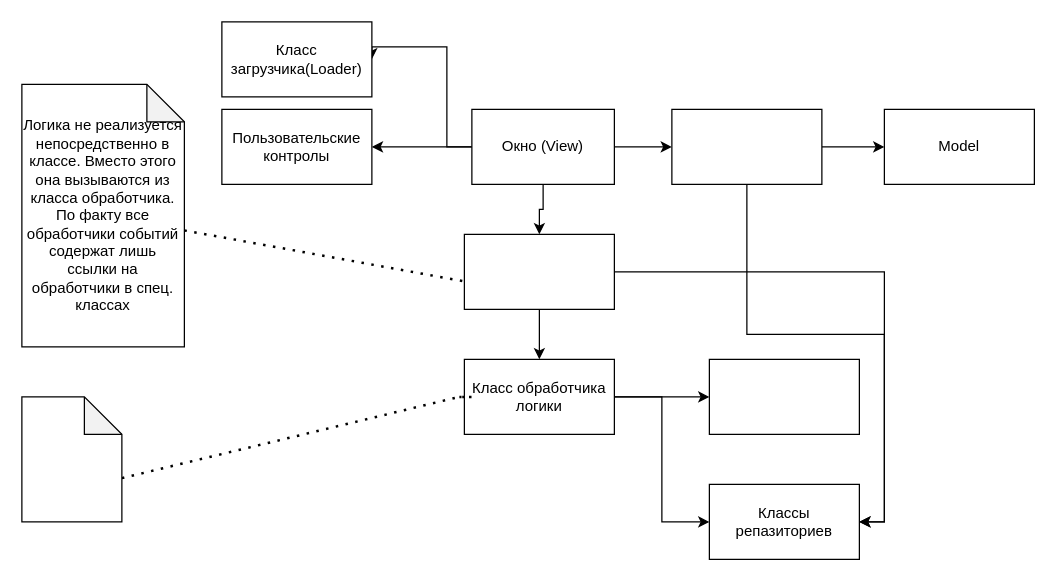
The diagram is 1056 pixels wide and 581 high, and some of its shapes have lost their labels. The centre of each missing label's shape, as x and y in pixels:
"ViewModel" belongs at (x=746, y=146).
"Класс логики" belongs at (x=538, y=271).
"Логика обработчика событий" belongs at (x=71, y=459).
"Утилитарные классы" belongs at (x=783, y=396).
